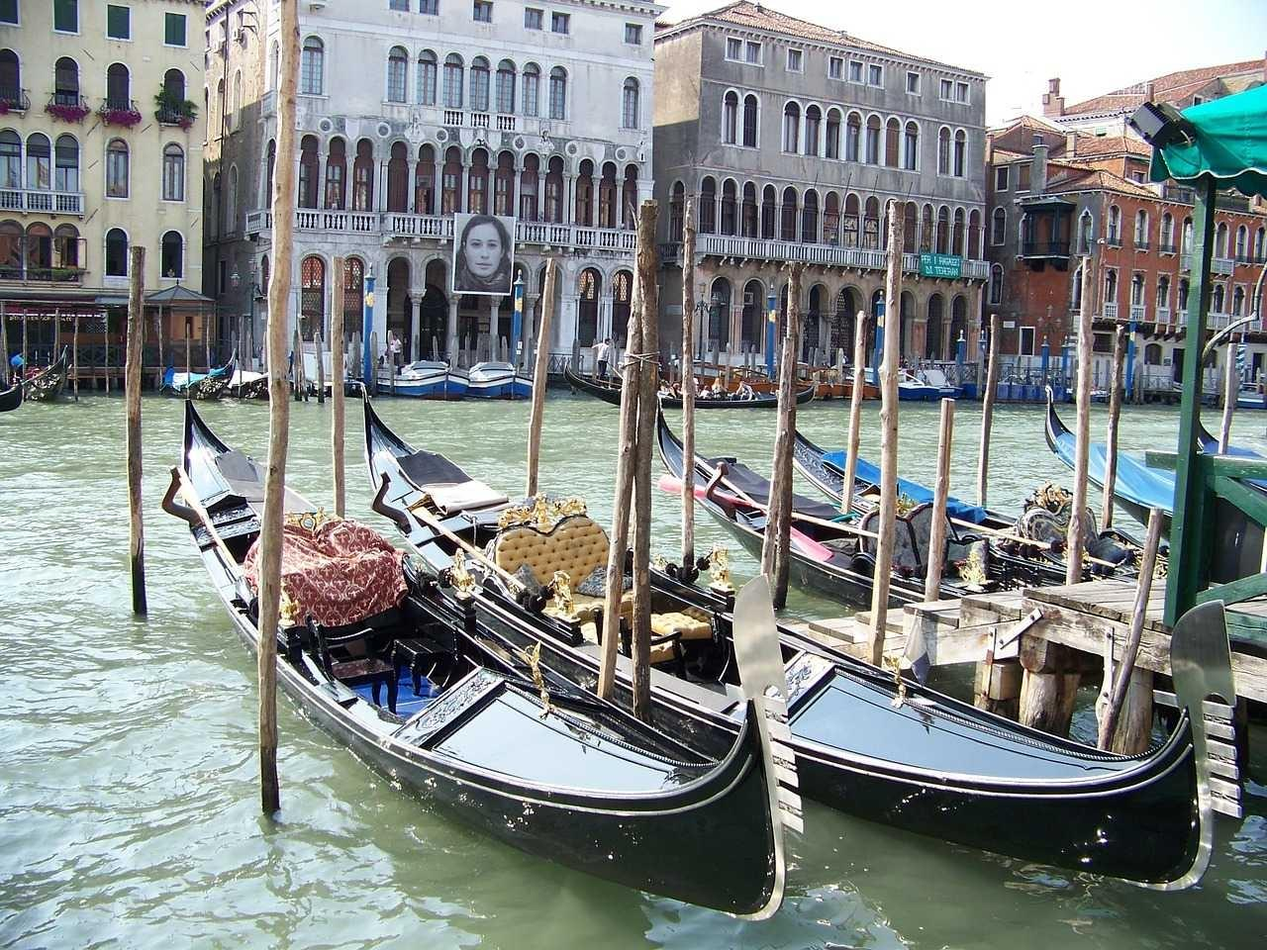kayak: (161, 396, 786, 917), (730, 572, 1249, 883), (657, 419, 1146, 610), (360, 390, 511, 550), (1044, 386, 1196, 520), (667, 377, 815, 409), (378, 359, 468, 400), (463, 361, 534, 399), (563, 366, 624, 405), (897, 368, 966, 402), (20, 357, 66, 403), (0, 378, 24, 413)
